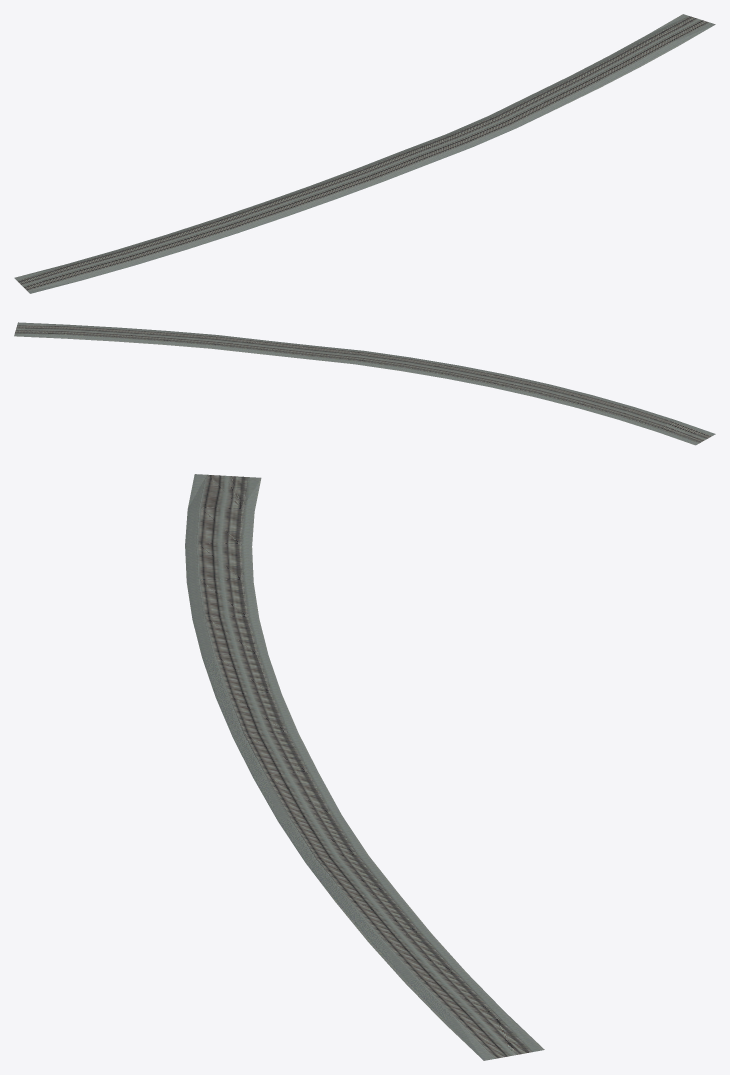
The model's file is lod_des_line09.obj.
The picture shows the model from 3 angles, top to bottom: view 1: azimuth 30°, elevation 25°; view 2: azimuth 150°, elevation 25°; view 3: azimuth 270°, elevation 25°; orthographic projection. The views are drawn at different scales.
Parts seen in each view (by area): view 1: lod_des_line09; view 2: lod_des_line09; view 3: lod_des_line09.
Part boxes in pixels (bbox=[...]): lod_des_line09: bbox=[14, 14, 715, 293]; lod_des_line09: bbox=[14, 322, 715, 445]; lod_des_line09: bbox=[185, 474, 544, 1060].
Bounding box in the file's own units: 238 × 4.86 × 59.27.
1 material, 1 textured.
